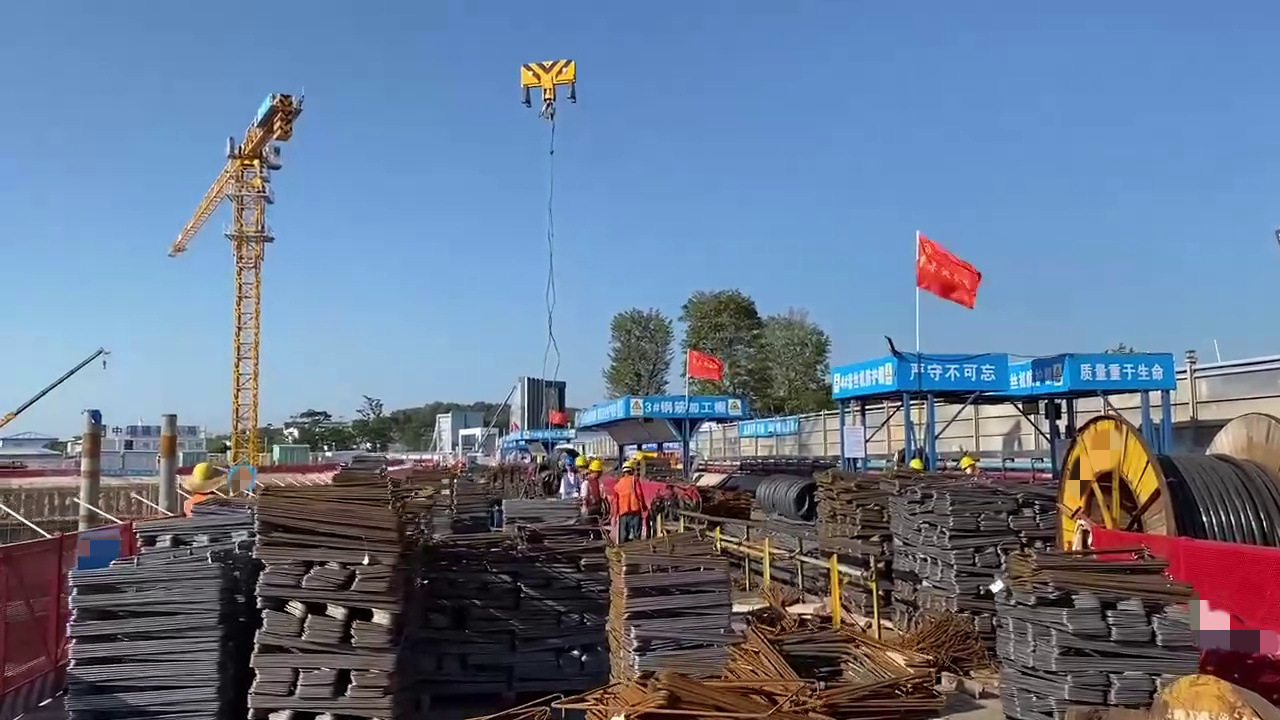fence: (1072, 527, 1280, 688), (2, 520, 130, 713)
helmet: (192, 464, 217, 482)
hook: (517, 61, 578, 105)
person: (181, 460, 220, 521), (616, 459, 646, 538), (585, 458, 603, 535), (561, 458, 578, 511)
rebar: (594, 626, 993, 720), (1003, 551, 1203, 720), (251, 477, 389, 720), (73, 550, 218, 720), (611, 541, 736, 683), (885, 482, 991, 611), (815, 462, 914, 574)
slogan: (899, 357, 1008, 388), (1070, 359, 1172, 381)
vest: (615, 478, 641, 516)
